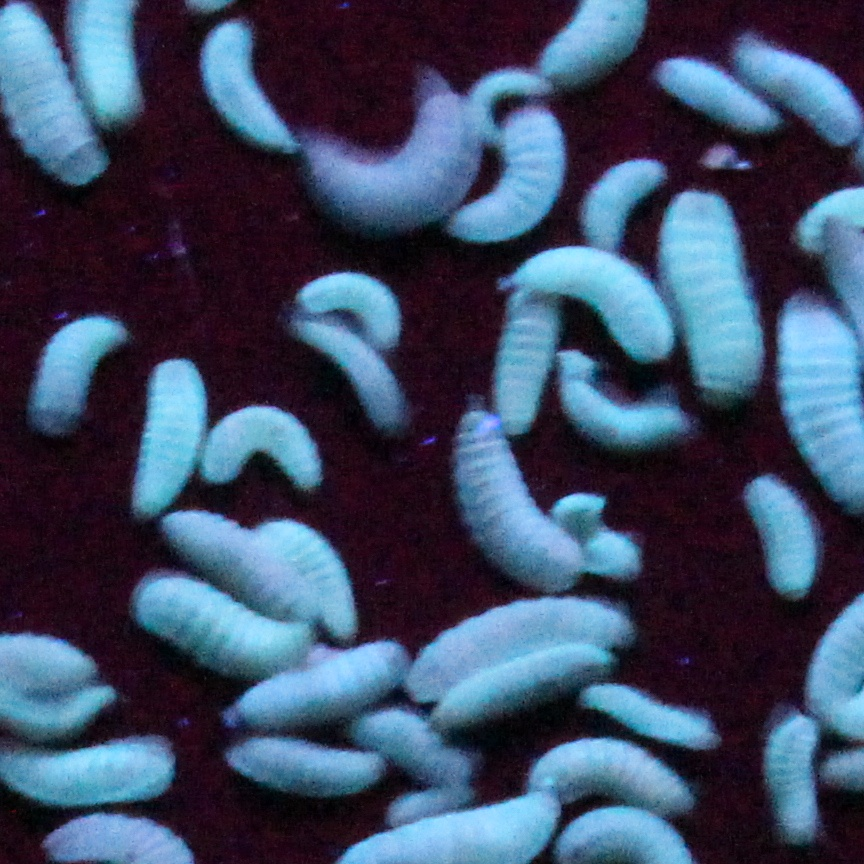larve: (460, 420, 578, 580), (322, 108, 469, 222), (4, 10, 94, 178), (682, 201, 752, 396), (413, 609, 632, 670), (524, 253, 660, 350), (547, 736, 693, 824), (183, 506, 300, 606), (159, 580, 296, 663), (449, 655, 618, 721), (254, 653, 396, 728), (567, 360, 690, 445), (464, 120, 557, 232), (211, 34, 294, 150), (32, 318, 108, 436), (755, 45, 857, 131), (141, 366, 196, 513), (311, 324, 394, 420), (291, 516, 359, 628), (211, 413, 320, 481), (306, 274, 406, 343), (603, 687, 718, 743), (760, 487, 813, 597), (774, 716, 825, 824), (504, 299, 546, 424), (664, 67, 759, 120), (5, 682, 115, 726), (242, 748, 364, 785), (393, 716, 471, 772), (590, 164, 652, 232), (482, 67, 534, 129), (396, 780, 471, 816)
